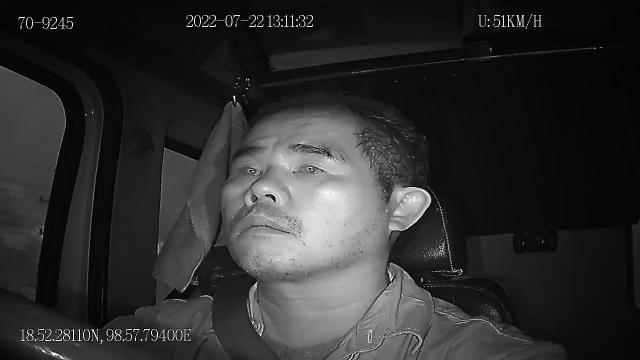SafeDriving: (286, 153, 334, 180), (229, 154, 266, 185)
Seatbelt: (210, 278, 284, 360)
